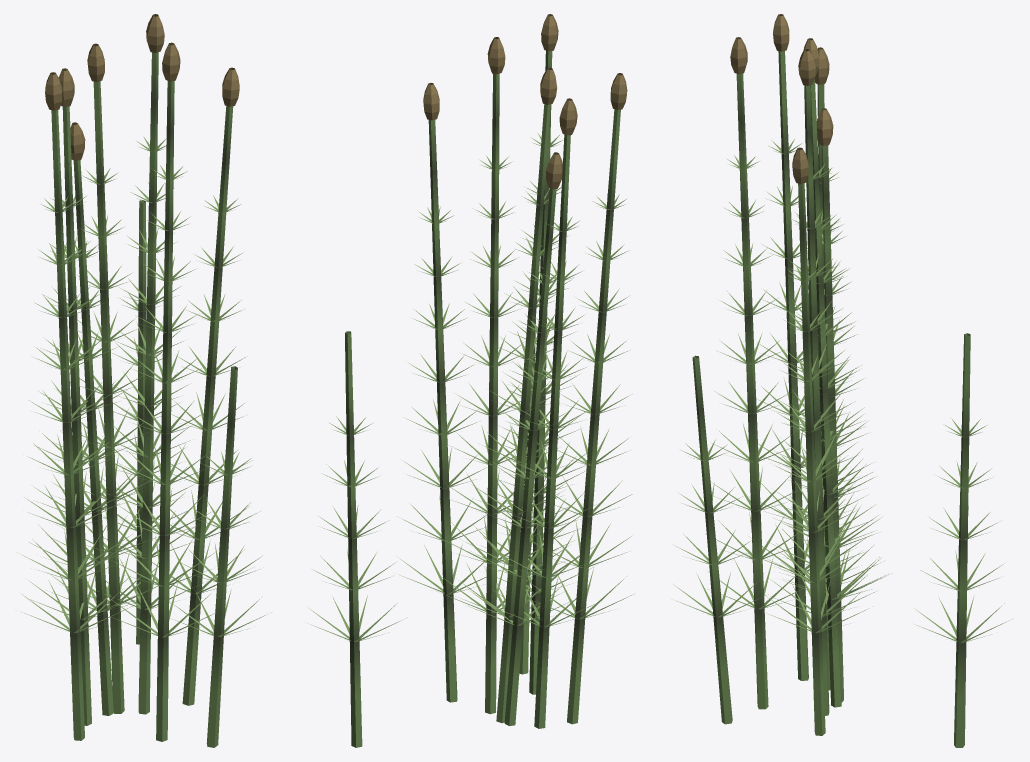
The model's file is horsetail_a.glb.
3 views of the same model, side by side, from view 1: azimuth 30°, elevation 25°; view 2: azimuth 150°, elevation 25°; view 3: azimuth 270°, elevation 25° (orthographic). The views are drawn at different scales.
Parts seen in each view (by area): view 1: horsetail_a; view 2: horsetail_a; view 3: horsetail_a.
Part boxes in pixels (bbox=[...]): horsetail_a: bbox=[17, 14, 267, 747]; horsetail_a: bbox=[307, 14, 632, 747]; horsetail_a: bbox=[673, 14, 1013, 747].
Bounding box in the file's own units: 0.525 × 1.39 × 0.6564.
